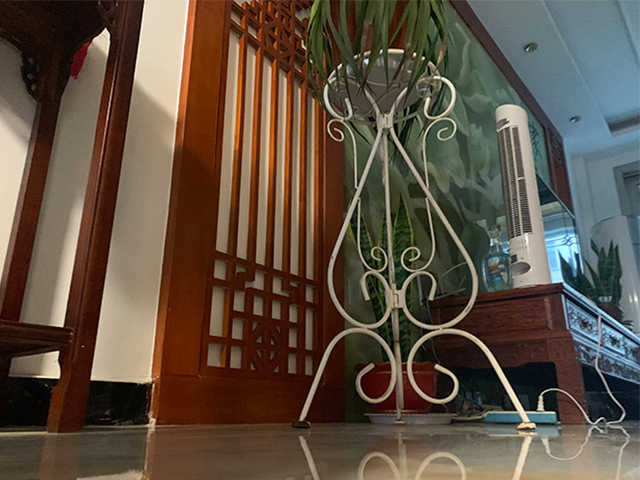cabinet: (423, 281, 640, 427)
wire: (536, 314, 626, 426)
